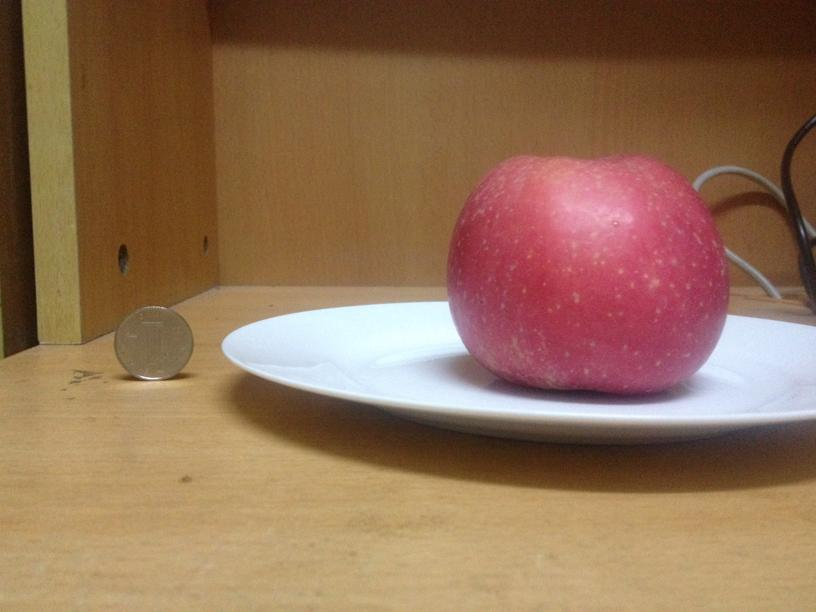apple: (445, 151, 729, 394)
coin: (114, 303, 195, 381)
